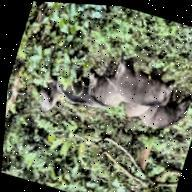boar: (99, 47, 183, 116), (136, 81, 192, 138)
